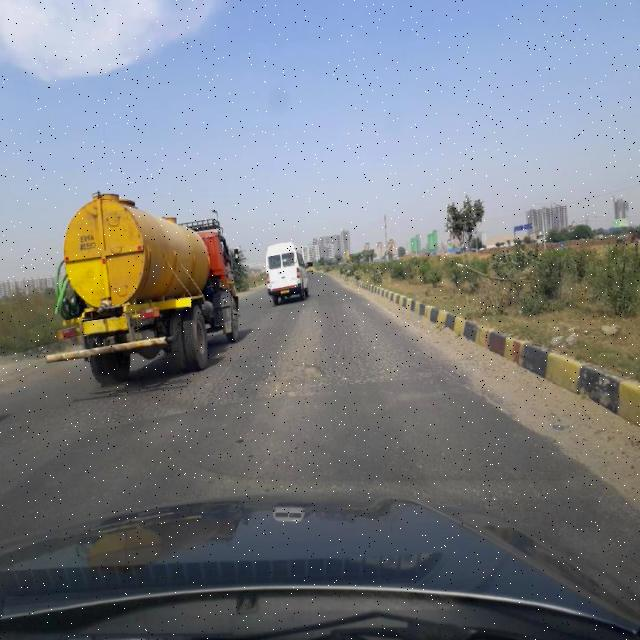D20: (244, 314, 392, 408)
D40: (258, 354, 325, 402)
